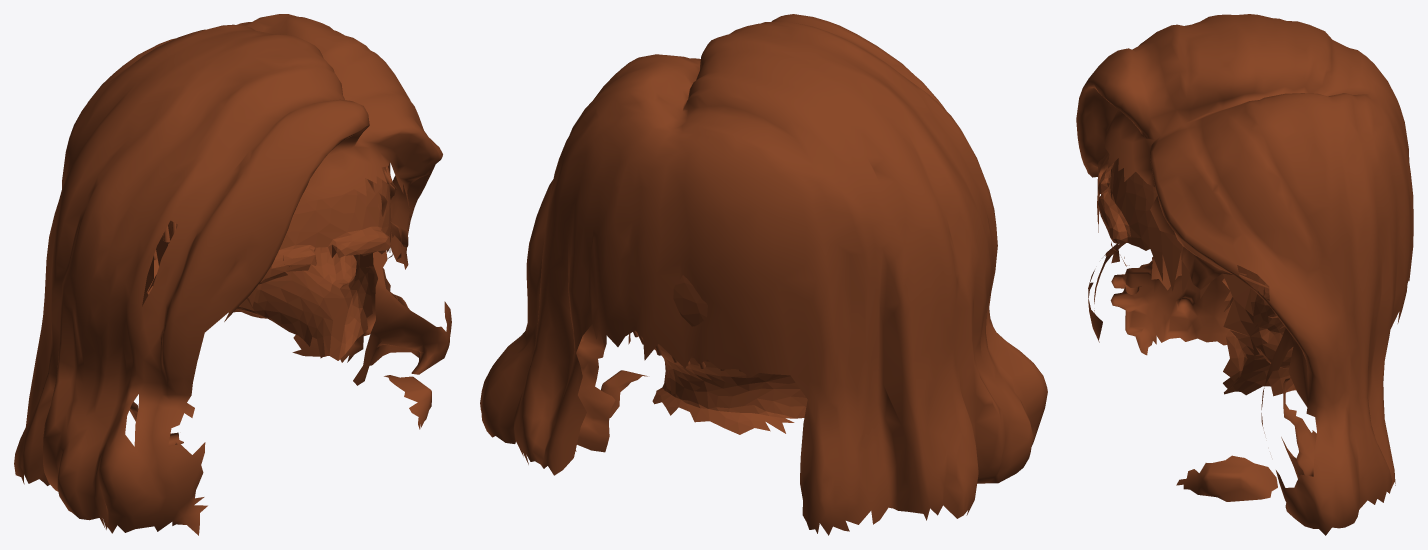
Rendered from long-wavy.glb.
3 views of the same model, side by side, from view 1: azimuth 30°, elevation 25°; view 2: azimuth 150°, elevation 25°; view 3: azimuth 270°, elevation 25° (orthographic). The views are drawn at different scales.
Visible parts, largest first — view 1: Hair, HairScalp; view 2: Hair, HairScalp; view 3: Hair, HairScalp.
Boxes of the visible parts, x1,y1,x2,y2 form: Hair: (14, 14, 451, 535); HairScalp: (142, 166, 391, 360); Hair: (480, 14, 1047, 535); HairScalp: (652, 275, 807, 434); Hair: (1076, 14, 1413, 535); HairScalp: (1098, 158, 1295, 396).
Bounding box in the file's own units: 0.7283 × 0.6021 × 0.4671.
